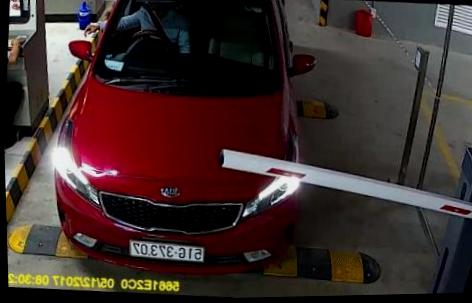License_Plate: (120, 237, 209, 266)
